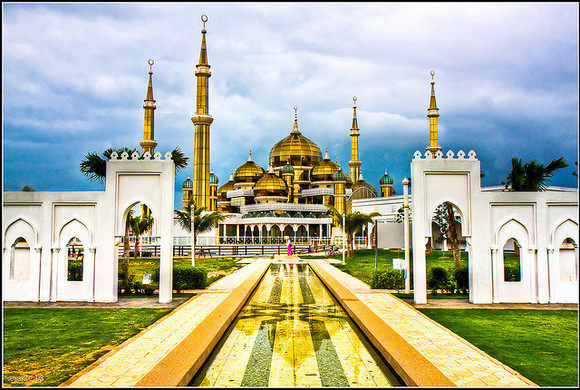Mosque: (126, 19, 443, 259)
